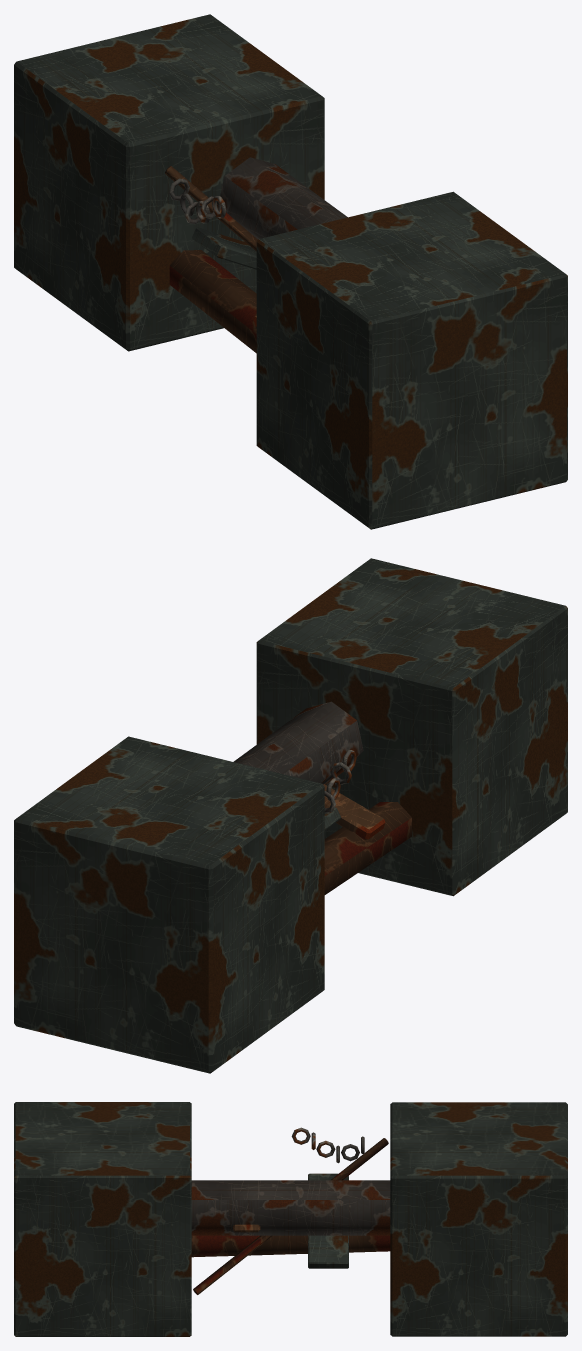
The model's file is R4C_STRUT_STANDARD.glb.
3 renders of one model, top to bottom at view 1: azimuth 30°, elevation 25°; view 2: azimuth 150°, elevation 25°; view 3: azimuth 270°, elevation 25°, orthographic. The views are drawn at different scales.
Visible parts, largest first — view 1: R4C_STRUT_STANDARD; view 2: R4C_STRUT_STANDARD; view 3: R4C_STRUT_STANDARD.
Boxes of the visible parts, x1,y1,x2,y2 form: R4C_STRUT_STANDARD: (14,14,567,529); R4C_STRUT_STANDARD: (14,558,567,1073); R4C_STRUT_STANDARD: (14,1102,567,1336).
Size of the model in its own units: 0.52 by 0.52 by 1.62.
Materials: 3 (3 with a texture image).
